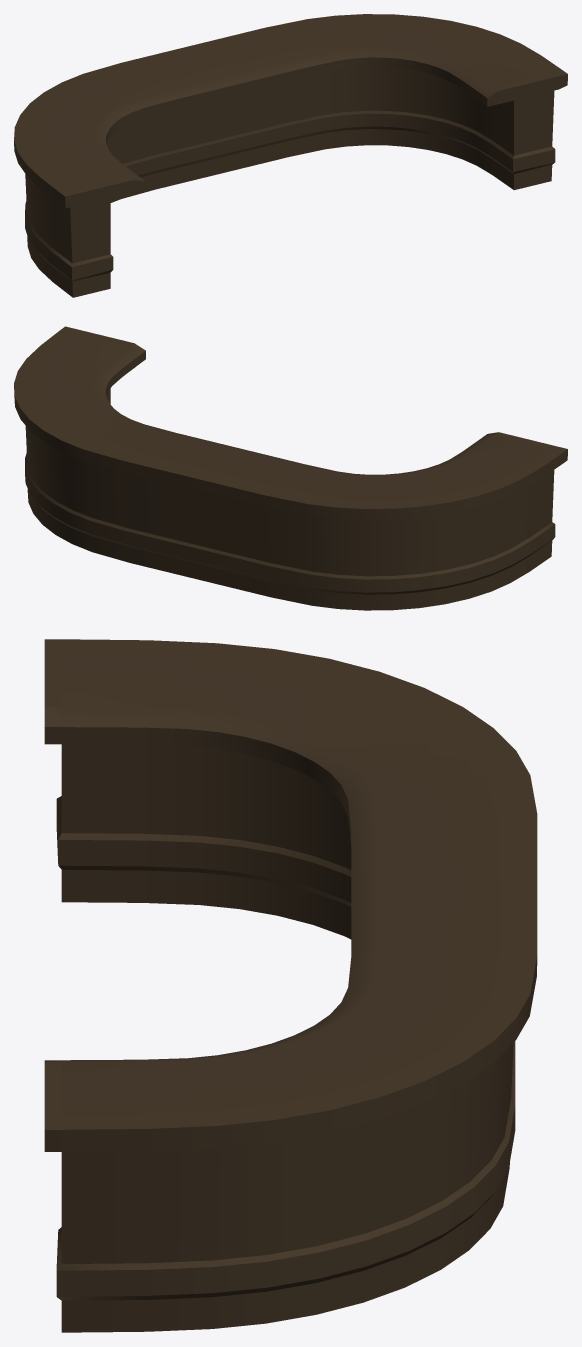
The model's file is SM_BarWall.fbx.
3 views of the same model, one above another, from view 1: azimuth 30°, elevation 25°; view 2: azimuth 150°, elevation 25°; view 3: azimuth 270°, elevation 25° (orthographic). The views are drawn at different scales.
Parts seen in each view (by area): view 1: GEO_Bar_Wall; view 2: GEO_Bar_Wall; view 3: GEO_Bar_Wall.
Boxes of the visible parts, left/top/right/bottom form: GEO_Bar_Wall: left=14, top=14, right=567, bottom=297; GEO_Bar_Wall: left=14, top=326, right=567, bottom=610; GEO_Bar_Wall: left=44, top=639, right=537, bottom=1332.
Bounding box in the file's own units: 482 × 98.38 × 205.
